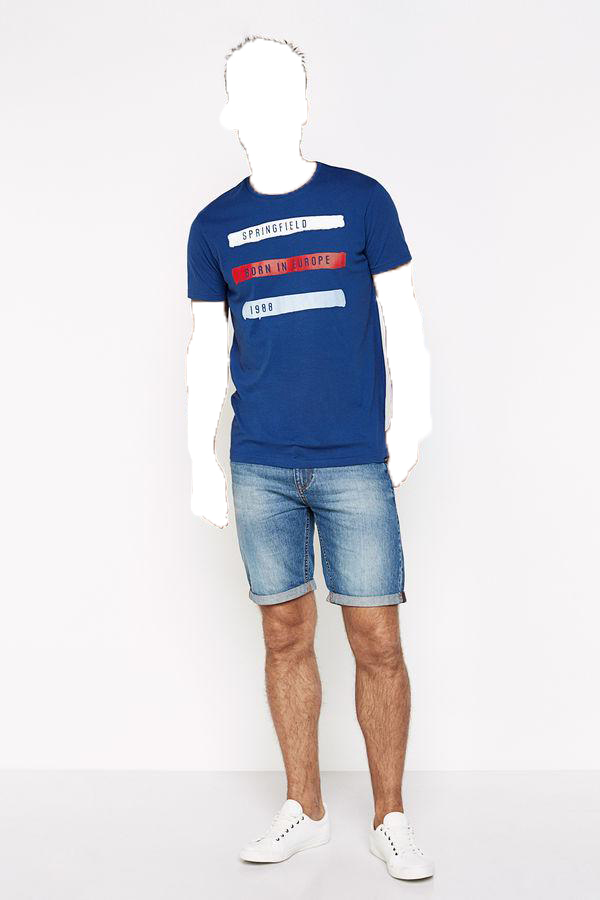teeshirt: (179, 160, 418, 480)
